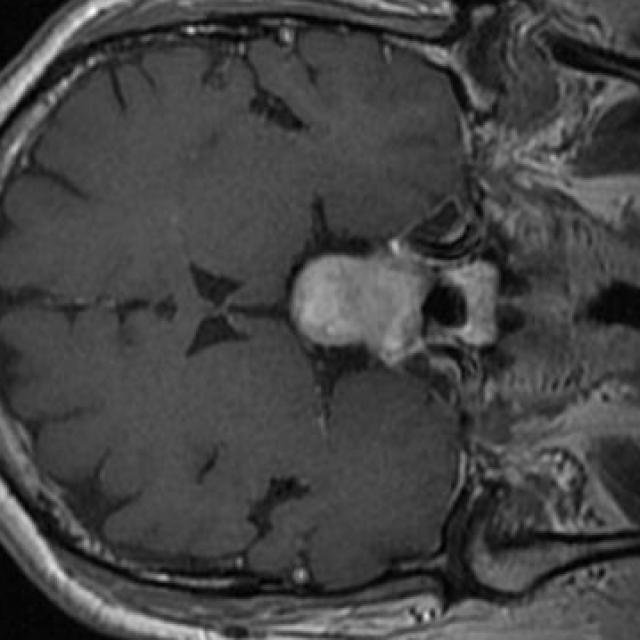pituitary: (289, 253, 499, 358)
